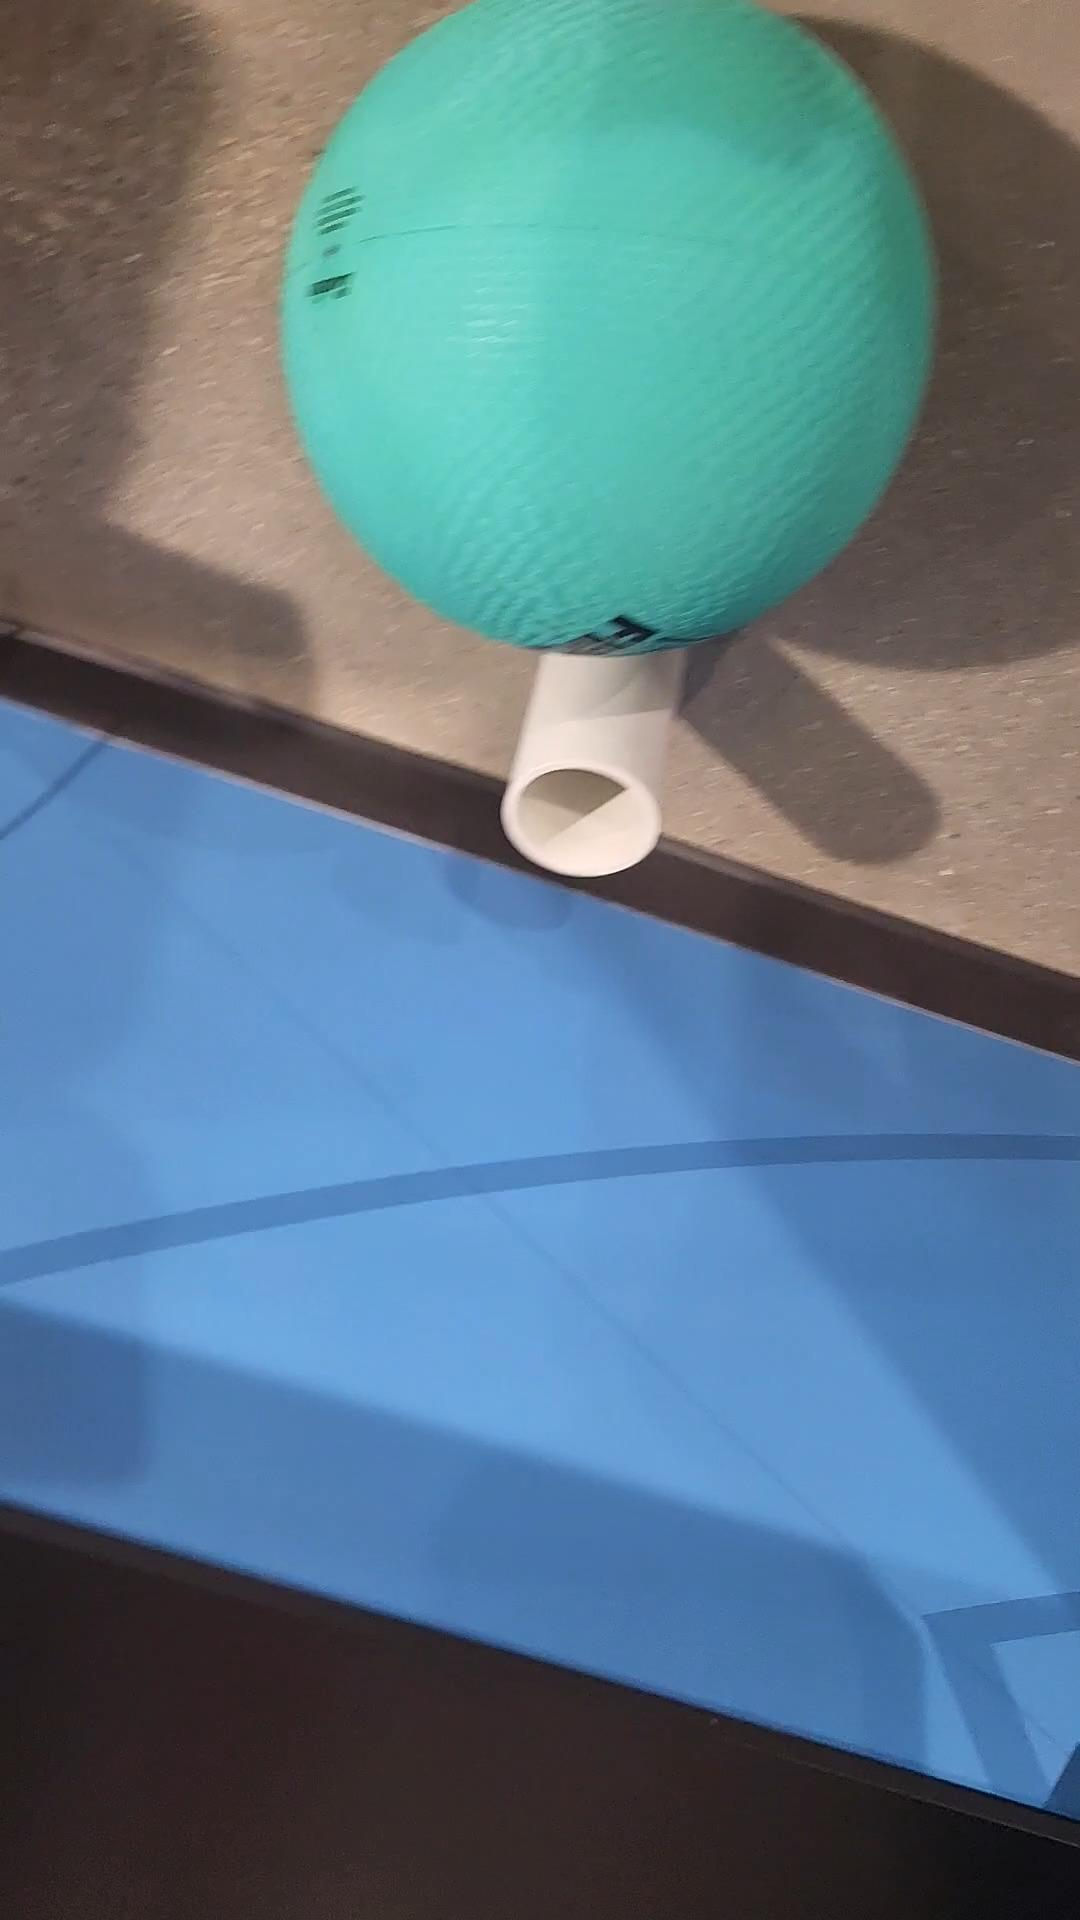algae: (286, 0, 920, 659)
coral: (500, 624, 674, 886)
